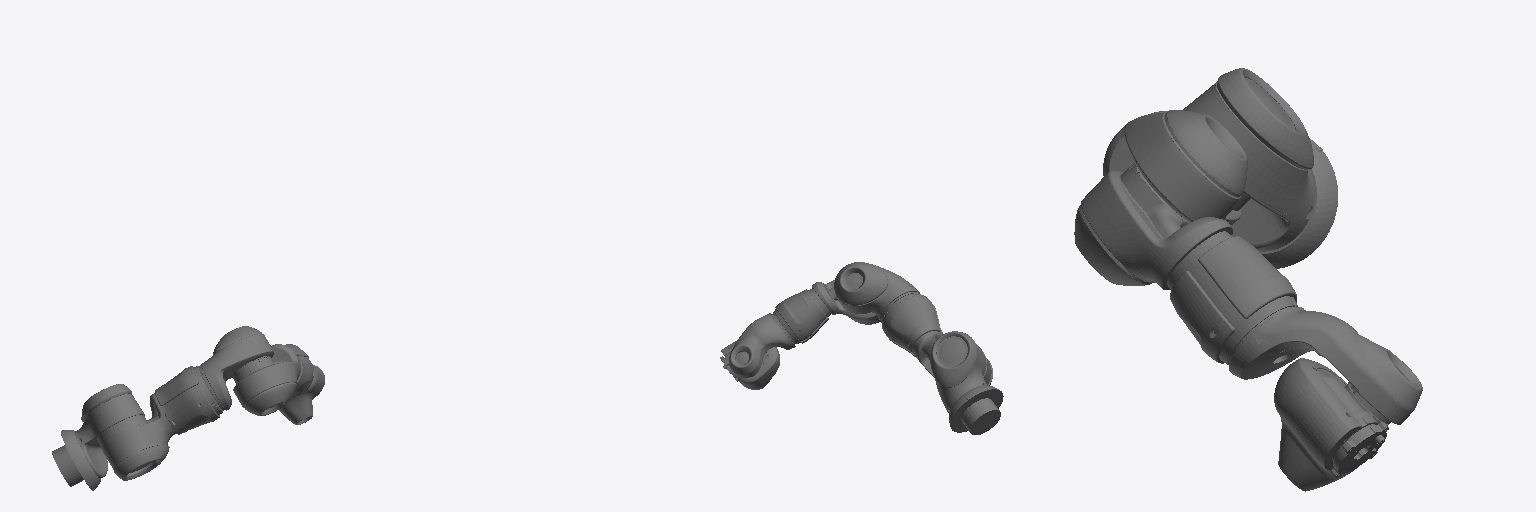
The robot description file, URDF, robot "yumi":
<?xml version="1.0" ?>
<!-- =================================================================================== -->
<!-- |    This document was autogenerated by xacro from yumi.urdf.xacro                | -->
<!-- |    EDITING THIS FILE BY HAND IS NOT RECOMMENDED                                 | -->
<!-- =================================================================================== -->
<robot name="yumi" xmlns:xacro="http://www.ros.org/wiki/xacro">
  <material name="Black">
    <color rgba="0.0 0.0 0.0 1.0"/>
  </material>
  <material name="Blue">
    <color rgba="0.0 0.0 0.8 1.0"/>
  </material>
  <material name="Green">
    <color rgba="0.0 0.8 0.0 1.0"/>
  </material>
  <material name="Grey">
    <color rgba="0.5 0.5 0.5 1.0"/>
  </material>
  <material name="Light_Grey">
    <color rgba="0.8 0.8 0.8 1.0"/>
  </material>
  <material name="Ivory">
    <color rgba="1.0 1.0 0.94 1.0"/>
  </material>
  <material name="Orange">
    <color rgba="1.0 0.423529411765 0.0392156862745 1.0"/>
  </material>
  <material name="Brown">
    <color rgba="0.870588235294 0.811764705882 0.764705882353 1.0"/>
  </material>
  <material name="Red">
    <color rgba="0.8 0.0 0.0 1.0"/>
  </material>
  <material name="White">
    <color rgba="1.0 1.0 1.0 1.0"/>
  </material>
  <gazebo>
    <plugin filename="libgazebo_ros_control.so" name="gazebo_ros_controller">
      <robotNamespace>/yumi</robotNamespace>
    </plugin>
  </gazebo>
  <link name="yumi_base_link"/>
  <joint name="yumi_base_link_to_body" type="fixed">
    <parent link="yumi_base_link"/>
    <child link="yumi_body"/>
    <origin rpy="0 0 0" xyz="0 0 0"/>
  </joint>
  <link name="yumi_body">
    <inertial>
      <origin rpy="0 0 0" xyz="0 0 0"/>
      <mass value="15"/>
      <inertia ixx="0.5" ixy="0" ixz="0" iyy="0.6" iyz="0" izz="0.3"/>
    </inertial>
    <visual>
      <origin rpy="0 0 0" xyz="0 0 0"/>
      <geometry>
        <mesh filename="visual/body.obj"/>
      </geometry>
      <material name="Light_Grey"/>
    </visual>
    <collision>
      <origin rpy="0 0 0" xyz="0 0 0"/>
      <geometry>
        <mesh filename="collision/body.obj"/>
      </geometry>
      <material name="Light_Grey"/>
    </collision>
  </link>
  <!--///////////////////////////////////// RIGHT ARM ////////////////////////////////  -->
  <!-- joint between body and link_1_r -->
  <joint name="yumi_joint_1" type="revolute">
    <parent link="yumi_body"/>
    <child link="yumi_link_1"/>
    <origin rpy="-0.9795   -0.5682   -2.3155" xyz="0.05355 -0.0725 0.41492"/>
    <axis xyz="0 0 1"/>
    <limit effort="300" lower="-2.94087978961" upper="2.94087978961" velocity="3.14159265359"/>
    <dynamics damping="0.5"/>
  </joint>
  <link name="yumi_link_1">
    <inertial>
      <origin rpy="0 0 0" xyz="0 -0.03 0.12"/>
      <mass value="2"/>
      <inertia ixx="0.1" ixy="0" ixz="0" iyy="0.1" iyz="0" izz="0.1"/>
    </inertial>
    <visual>
      <origin rpy="0 0 0" xyz="0 0 0"/>
      <geometry>
        <mesh filename="visual/link_1.obj"/>
      </geometry>
      <material name="Grey"/>
    </visual>
    <collision>
      <origin rpy="0 0 0" xyz="0 0 0"/>
      <geometry>
        <mesh filename="collision/link_1.obj"/>
      </geometry>
      <material name="Grey"/>
    </collision>
  </link>
  <!-- joint between link_1_r and link_2_r -->
  <joint name="yumi_joint_2" type="revolute">
    <parent link="yumi_link_1"/>
    <child link="yumi_link_2"/>
    <origin rpy="1.57079632679 0.0 0.0" xyz="0.03 0.0 0.1"/>
    <axis xyz="0 0 1"/>
    <limit effort="300" lower="-2.50454747661" upper="0.759218224618" velocity="3.14159265359"/>
    <dynamics damping="0.5"/>
  </joint>
  <link name="yumi_link_2">
    <inertial>
      <origin rpy="0 0 0" xyz="0 0 0"/>
      <mass value="2"/>
      <inertia ixx="0.1" ixy="0" ixz="0" iyy="0.1" iyz="0" izz="0.1"/>
    </inertial>
    <visual>
      <origin rpy="0 0 0" xyz="0 0 0"/>
      <geometry>
        <mesh filename="visual/link_2.obj"/>
      </geometry>
      <material name="Grey"/>
    </visual>
    <collision>
      <origin rpy="0 0 0" xyz="0 0 0"/>
      <geometry>
        <mesh filename="collision/link_2.obj"/>
      </geometry>
      <material name="Grey"/>
    </collision>
  </link>
  <!-- joint between link_2_r and link_3_r -->
  <joint name="yumi_joint_7" type="revolute">
    <parent link="yumi_link_2"/>
    <child link="yumi_link_3"/>
    <origin rpy="-1.57079632679 0.0 0.0" xyz="-0.03 0.17283 0.0"/>
    <axis xyz="0 0 1"/>
    <limit effort="300" lower="-2.94087978961" upper="2.94087978961" velocity="3.14159265359"/>
    <dynamics damping="0.5"/>
  </joint>
  <link name="yumi_link_3">
    <inertial>
      <origin rpy="0 0 0" xyz="0 0 0"/>
      <mass value="2"/>
      <inertia ixx="0.1" ixy="0" ixz="0" iyy="0.1" iyz="0" izz="0.1"/>
    </inertial>
    <visual>
      <origin rpy="0 0 0" xyz="0 0 0"/>
      <geometry>
        <mesh filename="visual/link_3.obj"/>
      </geometry>
      <material name="Grey"/>
    </visual>
    <collision>
      <origin rpy="0 0 0" xyz="0 0 0"/>
      <geometry>
        <mesh filename="collision/link_3.obj"/>
      </geometry>
      <material name="Grey"/>
    </collision>
  </link>
  <!-- joint between link_3_r and link_4_r -->
  <joint name="yumi_joint_3" type="revolute">
    <parent link="yumi_link_3"/>
    <child link="yumi_link_4"/>
    <origin rpy="1.57079632679 -1.57079632679 0.0" xyz="-0.04188 0.0 0.07873"/>
    <axis xyz="0 0 1"/>
    <limit effort="300" lower="-2.15548162621" upper="1.3962634016" velocity="3.14159265359"/>
    <dynamics damping="0.5"/>
  </joint>
  <link name="yumi_link_4">
    <inertial>
      <origin rpy="0 0 0" xyz="0 0 0"/>
      <mass value="2"/>
      <inertia ixx="0.1" ixy="0" ixz="0" iyy="0.1" iyz="0" izz="0.1"/>
    </inertial>
    <visual>
      <origin rpy="0 0 0" xyz="0 0 0"/>
      <geometry>
        <mesh filename="visual/link_4.obj"/>
      </geometry>
      <material name="Grey"/>
    </visual>
    <collision>
      <origin rpy="0 0 0" xyz="0 0 0"/>
      <geometry>
        <mesh filename="collision/link_4.obj"/>
      </geometry>
      <material name="Grey"/>
    </collision>
  </link>
  <!-- joint between link_4_r and link_5_r -->
  <joint name="yumi_joint_4" type="revolute">
    <parent link="yumi_link_4"/>
    <child link="yumi_link_5"/>
    <origin rpy="-1.57079632679 0.0 0.0" xyz="0.0405 0.16461 0.0"/>
    <axis xyz="0 0 1"/>
    <limit effort="300" lower="-5.06145483078" upper="5.06145483078" velocity="6.98131700798"/>
    <dynamics damping="0.5"/>
  </joint>
  <link name="yumi_link_5">
    <inertial>
      <origin rpy="0 0 0" xyz="0 0 0"/>
      <mass value="2"/>
      <inertia ixx="0.1" ixy="0" ixz="0" iyy="0.1" iyz="0" izz="0.1"/>
    </inertial>
    <visual>
      <origin rpy="0 0 0" xyz="0 0 0"/>
      <geometry>
        <mesh filename="visual/link_5.obj"/>
      </geometry>
      <material name="Grey"/>
    </visual>
    <collision>
      <origin rpy="0 0 0" xyz="0 0 0"/>
      <geometry>
        <mesh filename="collision/link_5.obj"/>
      </geometry>
      <material name="Grey"/>
    </collision>
  </link>
  <!-- joint between link_5_r and link_6_r -->
  <joint name="yumi_joint_5" type="revolute">
    <parent link="yumi_link_5"/>
    <child link="yumi_link_6"/>
    <origin rpy="1.57079632679 0.0 0.0" xyz="-0.027 0 0.10039"/>
    <axis xyz="0 0 1"/>
    <limit effort="300" lower="-1.53588974176" upper="2.40855436775" velocity="6.98131700798"/>
    <dynamics damping="0.5"/>
  </joint>
  <link name="yumi_link_6">
    <inertial>
      <origin rpy="0 0 0" xyz="0 0 0"/>
      <mass value="2"/>
      <inertia ixx="0.1" ixy="0" ixz="0" iyy="0.1" iyz="0" izz="0.1"/>
    </inertial>
    <visual>
      <origin rpy="0 0 0" xyz="0 0 0"/>
      <geometry>
        <mesh filename="visual/link_6.obj"/>
      </geometry>
      <material name="Grey"/>
    </visual>
    <collision>
      <origin rpy="0 0 0" xyz="0 0 0"/>
      <geometry>
        <mesh filename="collision/link_6.obj"/>
      </geometry>
      <material name="Grey"/>
    </collision>
  </link>
  <!-- joint between link_6_r and link_7_r -->
  <joint name="yumi_joint_6" type="revolute">
    <parent link="yumi_link_6"/>
    <child link="yumi_link_7"/>
    <origin rpy="-1.57079632679 0.0 0.0" xyz="0.027 0.029 0.0"/>
    <axis xyz="0 0 1"/>
    <limit effort="300" lower="-3.99680398707" upper="3.99680398707" velocity="6.98131700798"/>
    <dynamics damping="0.5"/>
  </joint>
  <link name="yumi_link_7">
    <inertial>
      <origin rpy="0 0 0" xyz="0 0 0"/>
      <mass value="2"/>
      <inertia ixx="0.1" ixy="0" ixz="0" iyy="0.1" iyz="0" izz="0.1"/>
    </inertial>
    <visual>
      <origin rpy="0 0 0" xyz="0 0 0"/>
      <geometry>
        <mesh filename="visual/link_7.obj"/>
      </geometry>
      <material name="Grey"/>
    </visual>
    <collision>
      <origin rpy="0 0 0" xyz="0 0 0"/>
      <geometry>
        <mesh filename="collision/link_7.obj"/>
      </geometry>
      <material name="Grey"/>
    </collision>
  </link>
  <!--///////////////////////////////////// LEFT ARM ////////////////////////////////  -->
  <!-- joint between body and link_1_l -->
  <!-- joint between link_1_l and link_2_l -->
  <!-- joint between link_2_l and link_3_l -->
  <!-- joint between link_3_l and link_4_l -->
  <!-- joint between link_4_l and link_5_l -->
  <!-- joint between link_5_l and link_6_l -->
  <!-- joint between link_6_l and link_7_l -->
  <!-- Gazebo reference frame -->
  <gazebo reference="yumi_body">
    <material>Gazebo/Ivory</material>
    <mu1>0.2</mu1>
    <mu2>0.2</mu2>
  </gazebo>
  <transmission name="yumi_tran_1">
    <type>transmission_interface/SimpleTransmission</type>
    <joint name="yumi_joint_1">
      <hardwareInterface>hardware_interface/VelocityJointInterface</hardwareInterface>
    </joint>
    <actuator name="yumi_motor_1">
      <hardwareInterface>hardware_interface/VelocityJointInterface</hardwareInterface>
      <mechanicalReduction>1</mechanicalReduction>
    </actuator>
  </transmission>
  <transmission name="yumi_tran_2">
    <type>transmission_interface/SimpleTransmission</type>
    <joint name="yumi_joint_2">
      <hardwareInterface>hardware_interface/VelocityJointInterface</hardwareInterface>
    </joint>
    <actuator name="yumi_motor_2">
      <hardwareInterface>hardware_interface/VelocityJointInterface</hardwareInterface>
      <mechanicalReduction>1</mechanicalReduction>
    </actuator>
  </transmission>
  <transmission name="yumi_tran_3">
    <type>transmission_interface/SimpleTransmission</type>
    <joint name="yumi_joint_3">
      <hardwareInterface>hardware_interface/VelocityJointInterface</hardwareInterface>
    </joint>
    <actuator name="yumi_motor_3">
      <hardwareInterface>hardware_interface/VelocityJointInterface</hardwareInterface>
      <mechanicalReduction>1</mechanicalReduction>
    </actuator>
  </transmission>
  <transmission name="yumi_tran_4">
    <type>transmission_interface/SimpleTransmission</type>
    <joint name="yumi_joint_4">
      <hardwareInterface>hardware_interface/VelocityJointInterface</hardwareInterface>
    </joint>
    <actuator name="yumi_motor_4">
      <hardwareInterface>hardware_interface/VelocityJointInterface</hardwareInterface>
      <mechanicalReduction>1</mechanicalReduction>
    </actuator>
  </transmission>
  <transmission name="yumi_tran_5">
    <type>transmission_interface/SimpleTransmission</type>
    <joint name="yumi_joint_5">
      <hardwareInterface>hardware_interface/VelocityJointInterface</hardwareInterface>
    </joint>
    <actuator name="yumi_motor_5">
      <hardwareInterface>hardware_interface/VelocityJointInterface</hardwareInterface>
      <mechanicalReduction>1</mechanicalReduction>
    </actuator>
  </transmission>
  <transmission name="yumi_tran_6">
    <type>transmission_interface/SimpleTransmission</type>
    <joint name="yumi_joint_6">
      <hardwareInterface>hardware_interface/VelocityJointInterface</hardwareInterface>
    </joint>
    <actuator name="yumi_motor_6">
      <hardwareInterface>hardware_interface/VelocityJointInterface</hardwareInterface>
      <mechanicalReduction>1</mechanicalReduction>
    </actuator>
  </transmission>
  <transmission name="yumi_tran_7">
    <type>transmission_interface/SimpleTransmission</type>
    <joint name="yumi_joint_7">
      <hardwareInterface>hardware_interface/VelocityJointInterface</hardwareInterface>
    </joint>
    <actuator name="yumi_motor_7">
      <hardwareInterface>hardware_interface/VelocityJointInterface</hardwareInterface>
      <mechanicalReduction>1</mechanicalReduction>
    </actuator>
  </transmission>
  <transmission name="yumi_tran_1_l">
    <type>transmission_interface/SimpleTransmission</type>
    <joint name="yumi_joint_1_l">
      <hardwareInterface>hardware_interface/VelocityJointInterface</hardwareInterface>
    </joint>
    <actuator name="yumi_motor_1_l">
      <hardwareInterface>hardware_interface/VelocityJointInterface</hardwareInterface>
      <mechanicalReduction>1</mechanicalReduction>
    </actuator>
  </transmission>
  <transmission name="yumi_tran_2_l">
    <type>transmission_interface/SimpleTransmission</type>
    <joint name="yumi_joint_2_l">
      <hardwareInterface>hardware_interface/VelocityJointInterface</hardwareInterface>
    </joint>
    <actuator name="yumi_motor_2_l">
      <hardwareInterface>hardware_interface/VelocityJointInterface</hardwareInterface>
      <mechanicalReduction>1</mechanicalReduction>
    </actuator>
  </transmission>
  <transmission name="yumi_tran_3_l">
    <type>transmission_interface/SimpleTransmission</type>
    <joint name="yumi_joint_3_l">
      <hardwareInterface>hardware_interface/VelocityJointInterface</hardwareInterface>
    </joint>
    <actuator name="yumi_motor_3_l">
      <hardwareInterface>hardware_interface/VelocityJointInterface</hardwareInterface>
      <mechanicalReduction>1</mechanicalReduction>
    </actuator>
  </transmission>
  <transmission name="yumi_tran_4_l">
    <type>transmission_interface/SimpleTransmission</type>
    <joint name="yumi_joint_4_l">
      <hardwareInterface>hardware_interface/VelocityJointInterface</hardwareInterface>
    </joint>
    <actuator name="yumi_motor_4_l">
      <hardwareInterface>hardware_interface/VelocityJointInterface</hardwareInterface>
      <mechanicalReduction>1</mechanicalReduction>
    </actuator>
  </transmission>
  <transmission name="yumi_tran_5_l">
    <type>transmission_interface/SimpleTransmission</type>
    <joint name="yumi_joint_5_l">
      <hardwareInterface>hardware_interface/VelocityJointInterface</hardwareInterface>
    </joint>
    <actuator name="yumi_motor_5_l">
      <hardwareInterface>hardware_interface/VelocityJointInterface</hardwareInterface>
      <mechanicalReduction>1</mechanicalReduction>
    </actuator>
  </transmission>
  <transmission name="yumi_tran_6_l">
    <type>transmission_interface/SimpleTransmission</type>
    <joint name="yumi_joint_6_l">
      <hardwareInterface>hardware_interface/VelocityJointInterface</hardwareInterface>
    </joint>
    <actuator name="yumi_motor_6_l">
      <hardwareInterface>hardware_interface/VelocityJointInterface</hardwareInterface>
      <mechanicalReduction>1</mechanicalReduction>
    </actuator>
  </transmission>
  <transmission name="yumi_tran_7_l">
    <type>transmission_interface/SimpleTransmission</type>
    <joint name="yumi_joint_7_l">
      <hardwareInterface>hardware_interface/VelocityJointInterface</hardwareInterface>
    </joint>
    <actuator name="yumi_motor_7_l">
      <hardwareInterface>hardware_interface/VelocityJointInterface</hardwareInterface>
      <mechanicalReduction>1</mechanicalReduction>
    </actuator>
  </transmission>
</robot>

--- What the picture shows (computed from the rendered views, not written in the file) ---
Views: 3 orthographic renders of the robot side by side, from view 1: azimuth 30°, elevation 25°; view 2: azimuth 150°, elevation 25°; view 3: azimuth 270°, elevation 25°.
Robot: yumi — 9 links, 8 joints (7 revolute, 1 fixed); root link yumi_base_link; default pose: all joints at 0.
Links seen in each view (by area): view 1: yumi_link_2, yumi_link_1, yumi_link_4, yumi_link_3, yumi_link_6; view 2: yumi_link_1, yumi_link_2, yumi_link_3, yumi_link_4, yumi_link_5, yumi_link_6; view 3: yumi_link_4, yumi_link_1, yumi_link_3, yumi_link_5, yumi_link_6, yumi_link_7.
Boxes of the visible links, x1=… form: yumi_link_2: x1=97, y1=366, x2=222, y2=480; yumi_link_1: x1=52, y1=384, x2=144, y2=490; yumi_link_4: x1=233, y1=344, x2=313, y2=415; yumi_link_3: x1=199, y1=326, x2=273, y2=410; yumi_link_6: x1=279, y1=365, x2=324, y2=424; yumi_link_1: x1=930, y1=331, x2=1003, y2=434; yumi_link_2: x1=882, y1=293, x2=992, y2=385; yumi_link_3: x1=834, y1=262, x2=919, y2=322; yumi_link_4: x1=773, y1=280, x2=880, y2=343; yumi_link_5: x1=729, y1=313, x2=795, y2=377; yumi_link_6: x1=721, y1=341, x2=779, y2=389; yumi_link_4: x1=1074, y1=163, x2=1297, y2=364; yumi_link_1: x1=1183, y1=68, x2=1337, y2=268; yumi_link_3: x1=1103, y1=110, x2=1247, y2=221; yumi_link_5: x1=1229, y1=306, x2=1422, y2=424; yumi_link_6: x1=1274, y1=358, x2=1388, y2=491; yumi_link_7: x1=1331, y1=422, x2=1388, y2=477.
Size in the robot's own frame: 0.9429 by 0.3518 by 0.6396 metres.
7 mesh visuals loaded from 8 distinct referenced files (7 OBJ); not drawn: 1 (reference not matched to a file when rendering).
